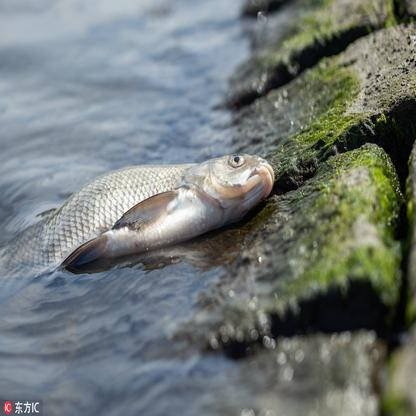deceased fish: (14, 149, 275, 277)
